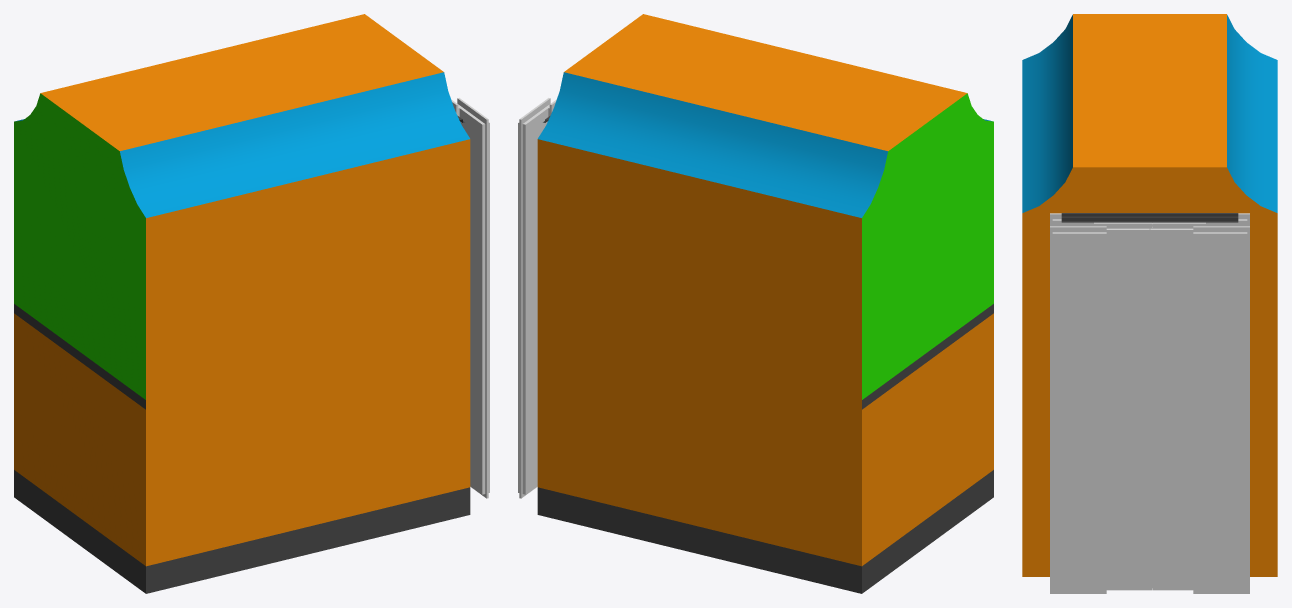
Rendered from patro1-chodbaKratka-vytah.fbx.
The picture shows the model from 3 angles, left to right: view 1: azimuth 30°, elevation 25°; view 2: azimuth 150°, elevation 25°; view 3: azimuth 270°, elevation 25°; orthographic projection. The views are drawn at different scales.
Parts seen in each view (by area): view 1: Vytah.Front, Vytah.Left, Vytah.Top, DvereVytahu.Vnejsi; view 2: Vytah.Back, Vytah.Left, Vytah.Top, DvereVytahu.Vnejsi; view 3: DvereVytahu.Vnejsi, Vytah.Top, Vytah.Right, DvereVytahu.Vnitrni.
Boxes of the visible parts, box(x1,y1,x2,y2) form: Vytah.Front: box(146, 139, 470, 593); Vytah.Left: box(14, 93, 460, 593); Vytah.Top: box(16, 14, 469, 217); DvereVytahu.Vnejsi: box(451, 98, 489, 498); Vytah.Back: box(537, 139, 861, 593); Vytah.Left: box(547, 93, 993, 593); Vytah.Top: box(538, 14, 991, 217); DvereVytahu.Vnejsi: box(518, 98, 556, 498); DvereVytahu.Vnejsi: box(1050, 222, 1249, 593); Vytah.Top: box(1022, 14, 1277, 222); Vytah.Right: box(1022, 167, 1277, 576); DvereVytahu.Vnitrni: box(1050, 213, 1249, 226).
Bounding box in the file's own units: 204 × 232 × 130.
